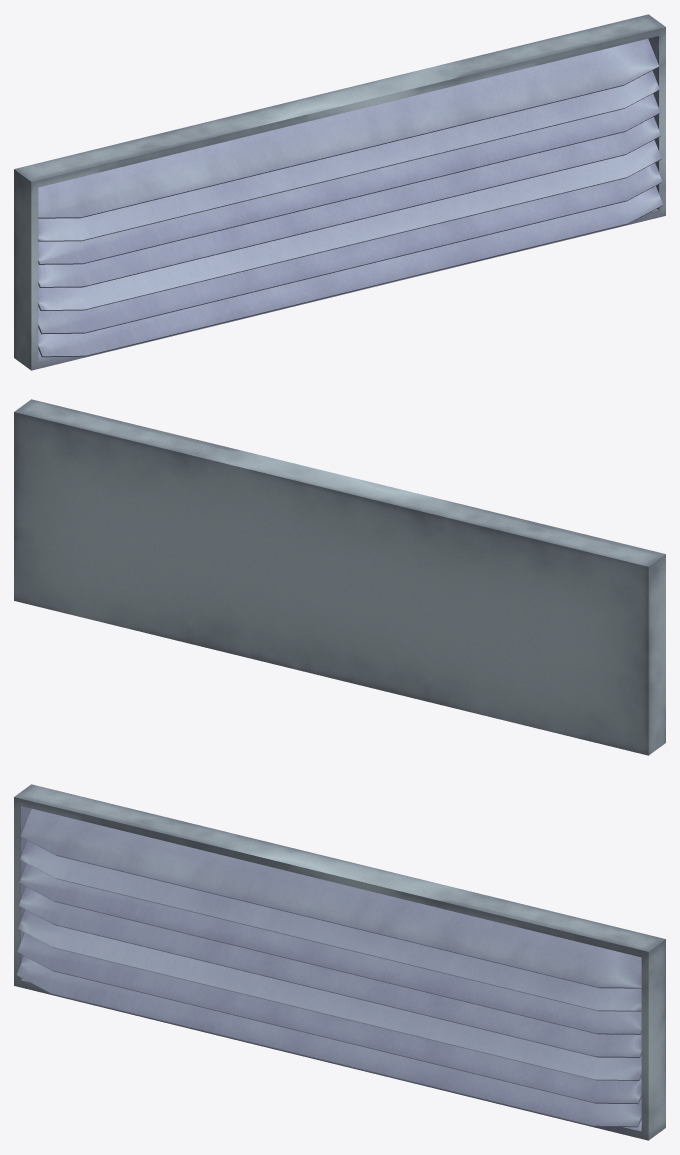
Rendered from LargeVent_clutter.fbx.
The picture shows the model from 3 angles, top to bottom: view 1: azimuth 30°, elevation 25°; view 2: azimuth 150°, elevation 25°; view 3: azimuth 330°, elevation 25°; orthographic projection.
Parts seen in each view (by area): view 1: Plane.001; view 2: Plane.001; view 3: Plane.001.
Part boxes in pixels (x1,y1,x2,y2): Plane.001: [14, 14, 665, 370]; Plane.001: [14, 399, 665, 755]; Plane.001: [14, 784, 665, 1140].
Bounding box in the file's own units: 366 × 104 × 25.84.
Materials: 1 (1 with a texture image).
